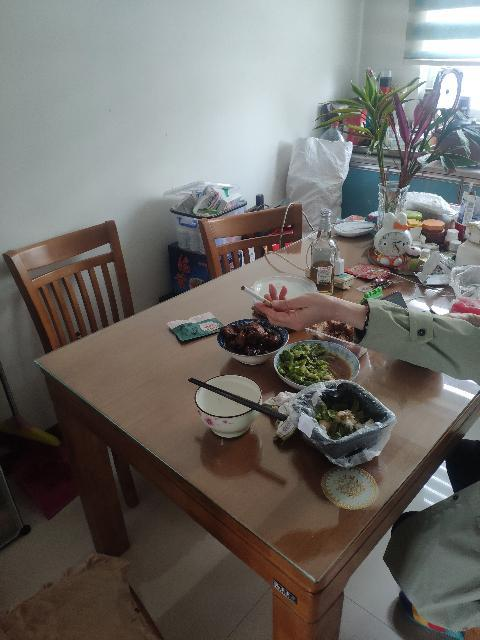Smoking: (240, 286, 274, 308)
